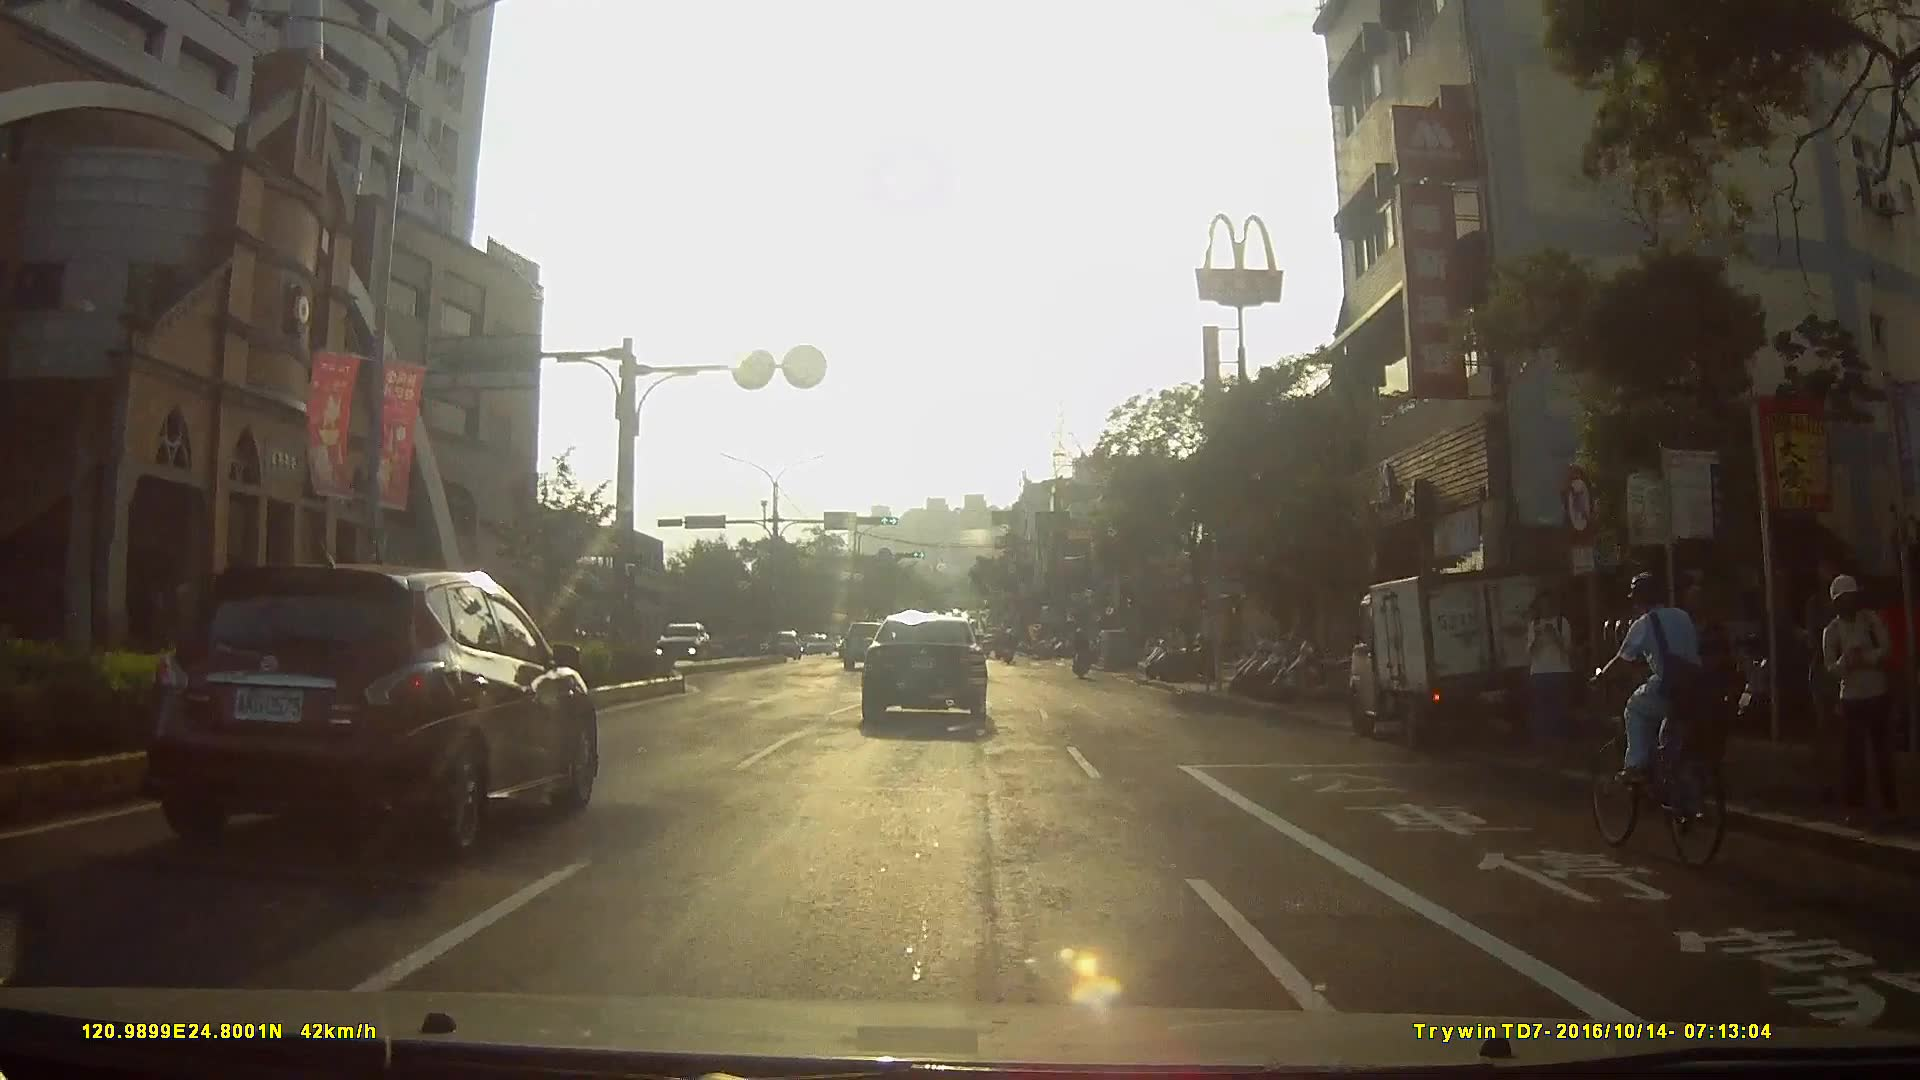pedestrian: (1820, 575, 1906, 826), (1684, 571, 1755, 818), (1523, 587, 1577, 772)
rider: (1583, 567, 1731, 874), (1070, 625, 1096, 685)
vehicle: (129, 561, 607, 853), (1340, 556, 1585, 760), (861, 611, 1004, 735), (645, 621, 712, 669), (837, 618, 896, 673), (753, 628, 794, 664)
